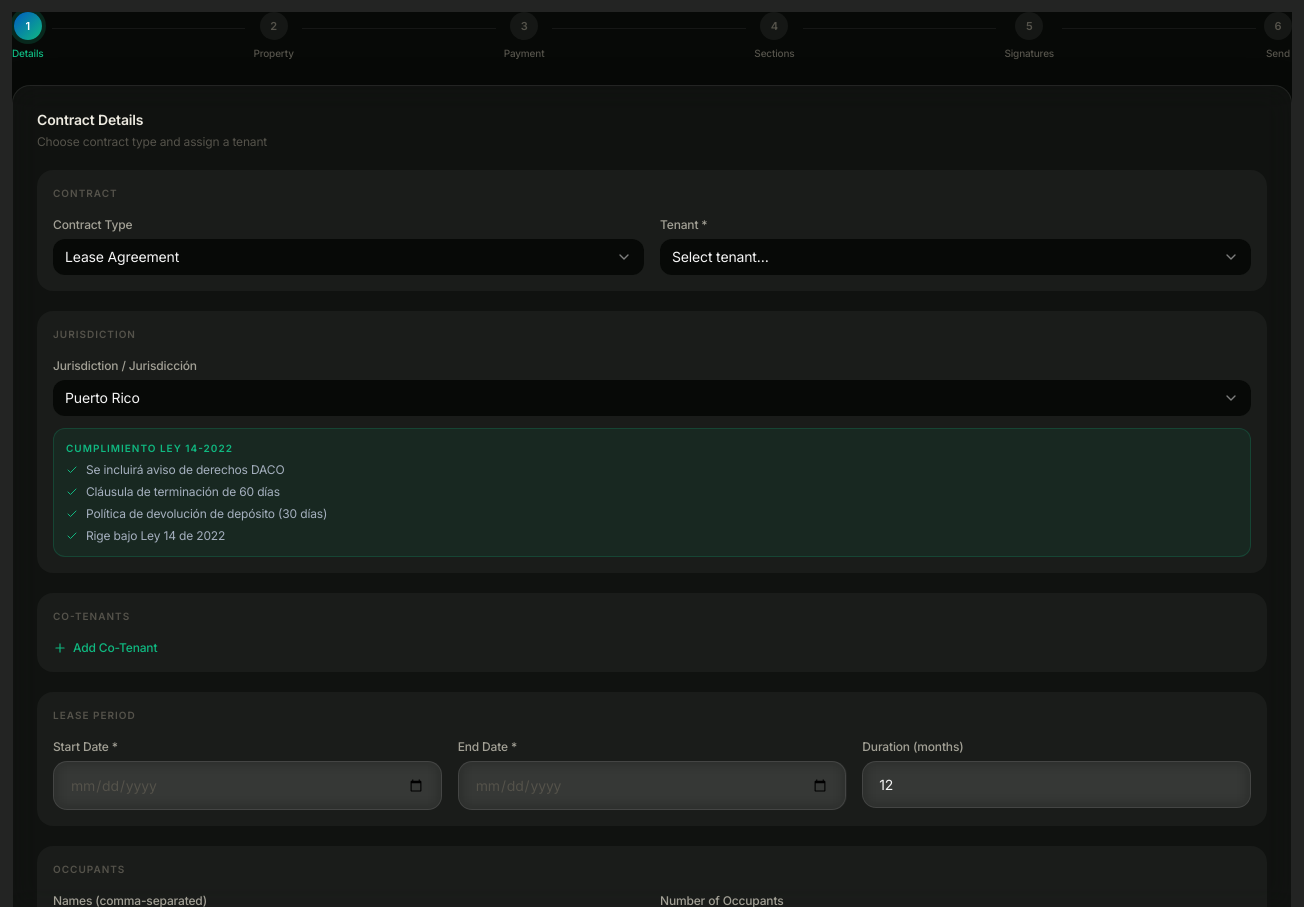
Test case: ContractBuilder step navigation › clicking step tab jumps directly to that step
Click the button "3 Payment": (524,36) [504,12,544,61]
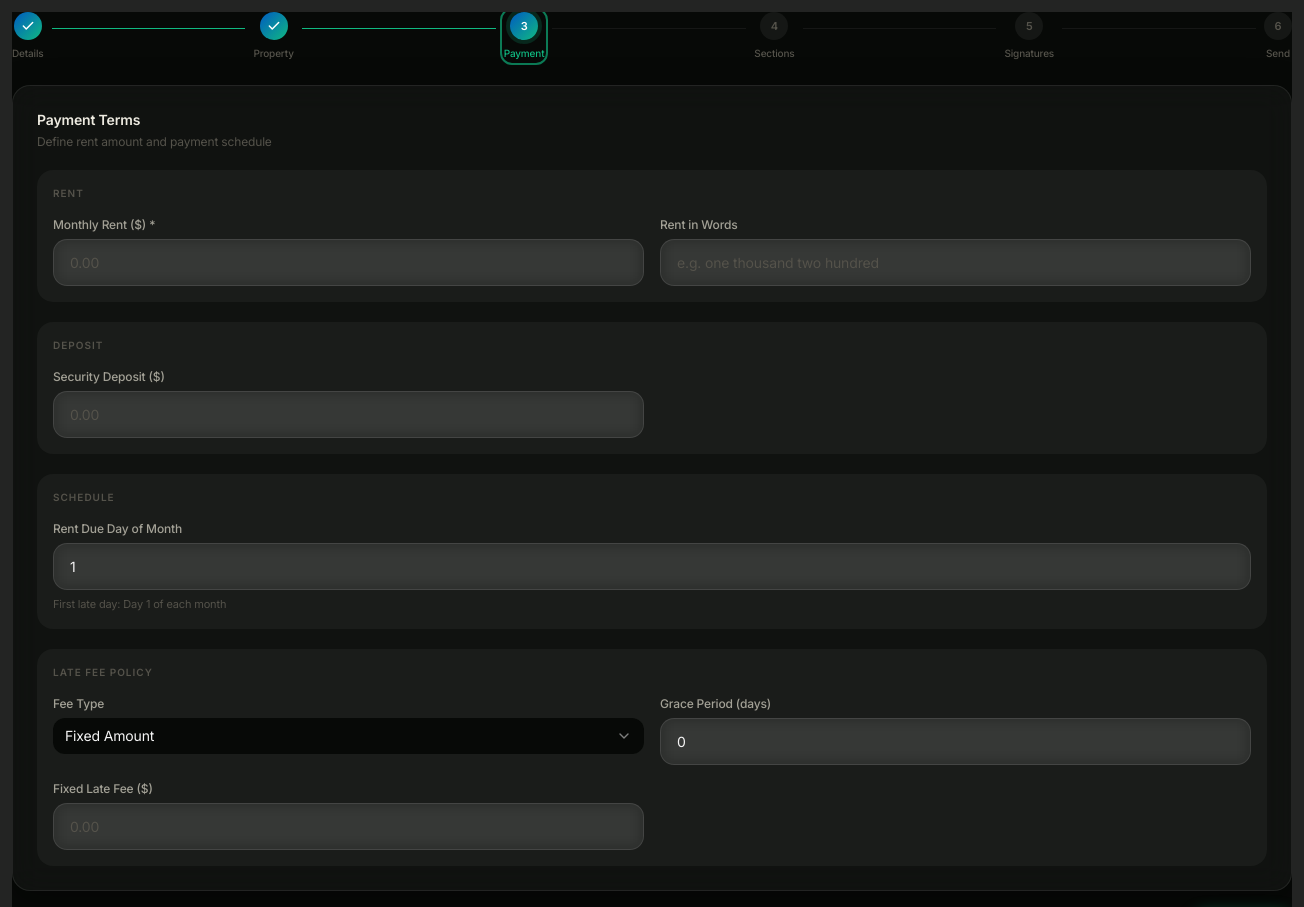
Expected: the text "Payment Terms" is shown, [37,111,140,128]
